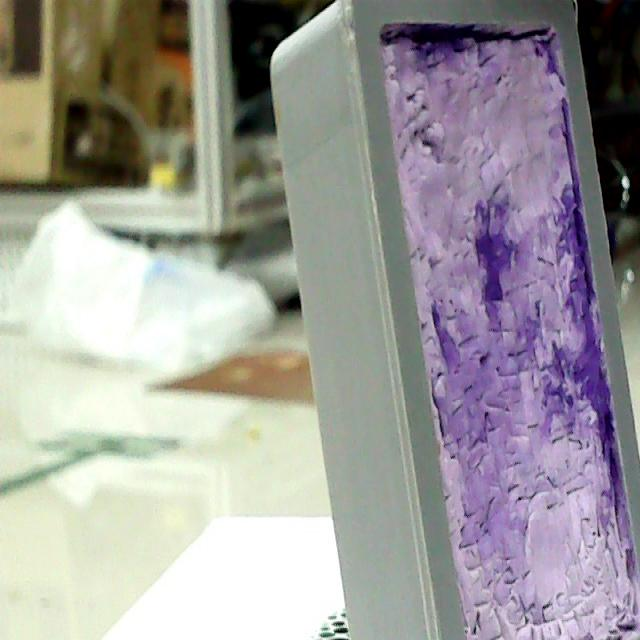block: (257, 2, 640, 640)
